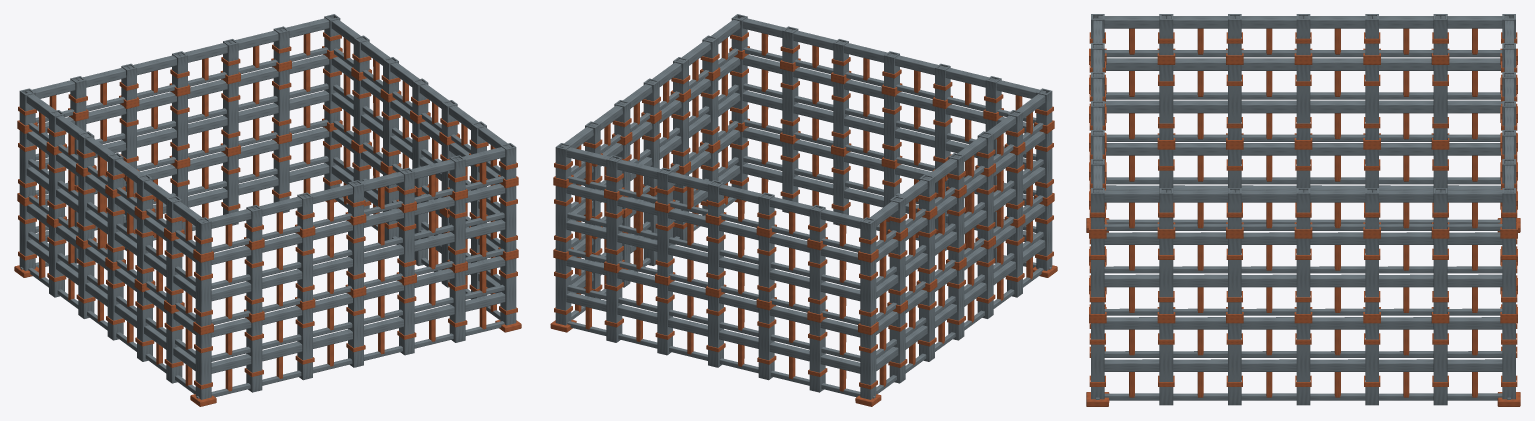
3 views of the same model, side by side, from view 1: azimuth 30°, elevation 25°; view 2: azimuth 150°, elevation 25°; view 3: azimuth 270°, elevation 25° (orthographic). The views are drawn at different scales.
Parts seen in each view (by area): view 1: Tier 0 side 0 post 0, Tier 1 side 0 post 0, Tier 0 side 0 post 1, Tier 0 side 0 post 5, Tier 0 side 0 post 4, Tier 0 side 0 post 3, Tier 0 side 0 post 2, Tier 0 side 1 post 0, Tier 1 side 0 post 1, Tier 1 side 1 post 0, Tier 1 side 0 post 5, Tier 1 side 2 post 1 (+65 smaller); view 2: Tier 0 side 3 post 0, Tier 1 side 3 post 0, Tier 0 side 2 post 4, Tier 0 side 2 post 5, Tier 0 side 2 post 1, Tier 0 side 2 post 2, Tier 0 side 2 post 3, Tier 0 side 2 post 0, Tier 1 side 2 post 5, Tier 1 side 2 post 1, Tier 1 side 2 post 4, Tier 1 side 0 post 5 (+66 smaller); view 3: Tier 0 side 1 post 1, Tier 0 side 1 post 5, Tier 0 side 1 post 3, Tier 0 side 1 post 2, Tier 0 side 1 post 4, Tier 1 side 3 post 1, Tier 1 side 3 post 5, Tier 1 side 1 post 1, Tier 1 side 1 post 5, Tier 1 side 3 post 3, Tier 1 side 1 post 3, Tier 0 side 1 post 0 (+118 smaller).
Part boxes in pixels (x1,y1,x2,y2): Tier 0 side 0 post 0: (195,332,211,399); Tier 1 side 0 post 0: (195,259,211,326); Tier 0 side 0 post 1: (246,320,262,392); Tier 0 side 0 post 5: (449,270,465,342); Tier 0 side 0 post 4: (399,283,414,355); Tier 0 side 0 post 3: (348,295,363,367); Tier 0 side 0 post 2: (297,308,312,380); Tier 0 side 1 post 0: (500,258,516,325); Tier 1 side 0 post 1: (246,248,262,314); Tier 1 side 1 post 0: (500,186,516,252); Tier 1 side 0 post 5: (449,198,465,264); Tier 1 side 2 post 1: (273,69,289,135); Tier 0 side 3 post 0: (860,332,876,399); Tier 1 side 3 post 0: (860,259,876,326); Tier 0 side 2 post 4: (758,308,774,380); Tier 0 side 2 post 5: (809,320,825,392); Tier 0 side 2 post 1: (606,270,622,342); Tier 0 side 2 post 2: (657,283,672,355); Tier 0 side 2 post 3: (708,295,723,367); Tier 0 side 2 post 0: (555,258,571,325); Tier 1 side 2 post 5: (809,248,825,314); Tier 1 side 2 post 1: (606,198,622,264); Tier 1 side 2 post 4: (758,235,774,301); Tier 1 side 0 post 5: (782,69,798,135); Tier 0 side 1 post 1: (1159,323,1173,405); Tier 0 side 1 post 5: (1433,323,1447,405); Tier 0 side 1 post 3: (1296,323,1310,405); Tier 0 side 1 post 2: (1228,323,1241,405); Tier 0 side 1 post 4: (1365,323,1378,405); Tier 1 side 3 post 1: (1433,65,1447,139); Tier 1 side 3 post 5: (1159,65,1173,139); Tier 1 side 1 post 1: (1159,238,1173,313); Tier 1 side 1 post 5: (1433,238,1447,313); Tier 1 side 3 post 3: (1296,65,1310,139); Tier 1 side 1 post 3: (1296,238,1310,313); Tier 0 side 1 post 0: (1091,323,1104,399).
Bounding box in the file's own units: 2.85 × 1.53 × 2.85.
2 materials, 2 textured.
